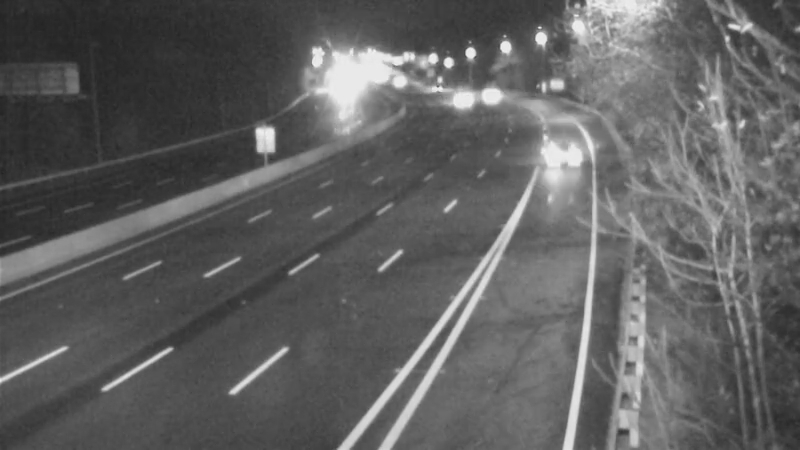vehicle: (522, 112, 602, 192), (402, 60, 452, 110), (465, 71, 515, 121), (431, 73, 481, 123)
